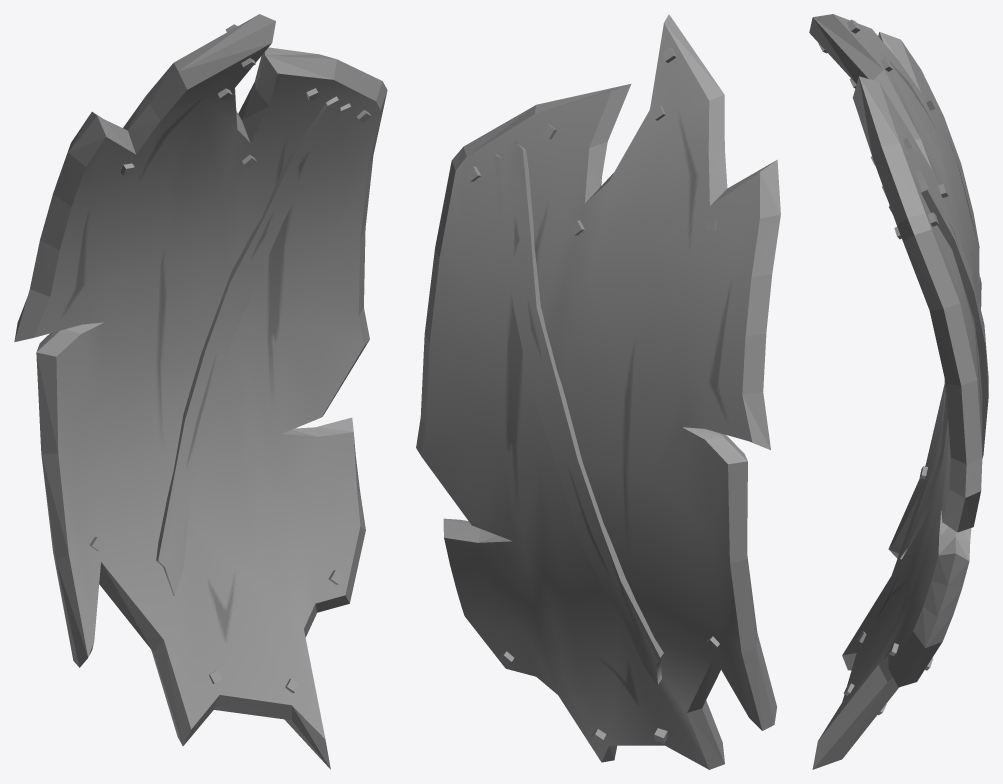
Rendered from ScrapMetal.FBX.
3 renders of one model, left to right at view 1: azimuth 30°, elevation 25°; view 2: azimuth 150°, elevation 25°; view 3: azimuth 270°, elevation 25°, orthographic. The views are drawn at different scales.
Parts seen in each view (by area): view 1: ScrapMetal; view 2: ScrapMetal; view 3: ScrapMetal.
Boxes of the visible parts, bbox=[...] form: ScrapMetal: bbox=[14, 14, 387, 769]; ScrapMetal: bbox=[416, 14, 780, 769]; ScrapMetal: bbox=[809, 14, 988, 769].
Size of the model in its own units: 54 by 111 by 24.73.
